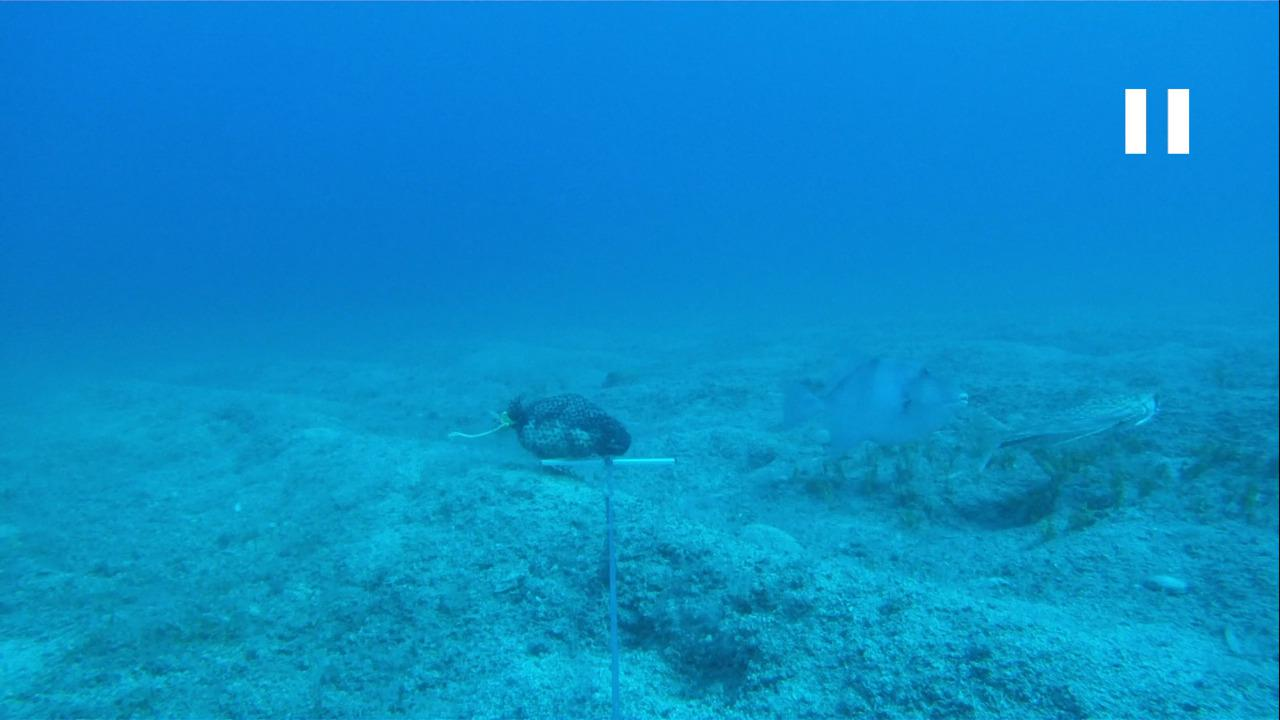balistes: (741, 348, 972, 466)
dactylopterus: (965, 380, 1165, 462)
